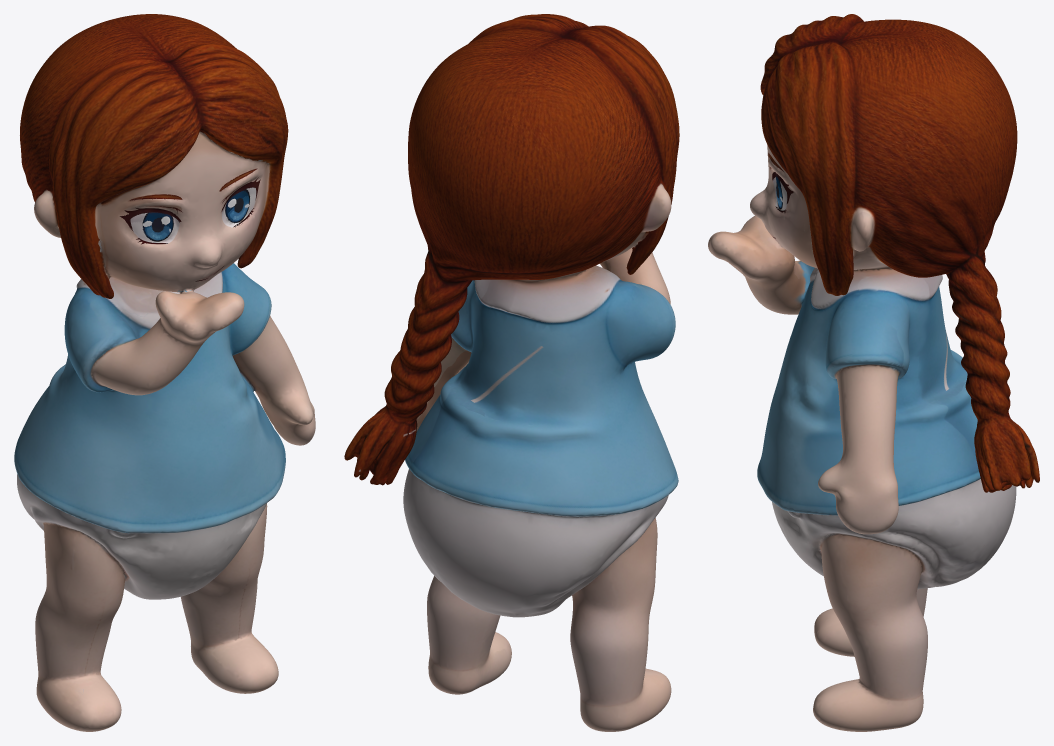
The model's file is annabutt.glb.
3 views of the same model, side by side, from view 1: azimuth 30°, elevation 25°; view 2: azimuth 150°, elevation 25°; view 3: azimuth 270°, elevation 25° (orthographic).
Parts seen in each view (by area): view 1: temp_mesh.ply; view 2: temp_mesh.ply; view 3: temp_mesh.ply.
Boxes of the visible parts, x1,y1,x2,y2 form: temp_mesh.ply: (14, 14, 315, 731); temp_mesh.ply: (344, 14, 679, 731); temp_mesh.ply: (708, 14, 1039, 731).
Size of the model in its own units: 28.04 by 64.29 by 29.69.
Materials: 2 (2 with a texture image).
